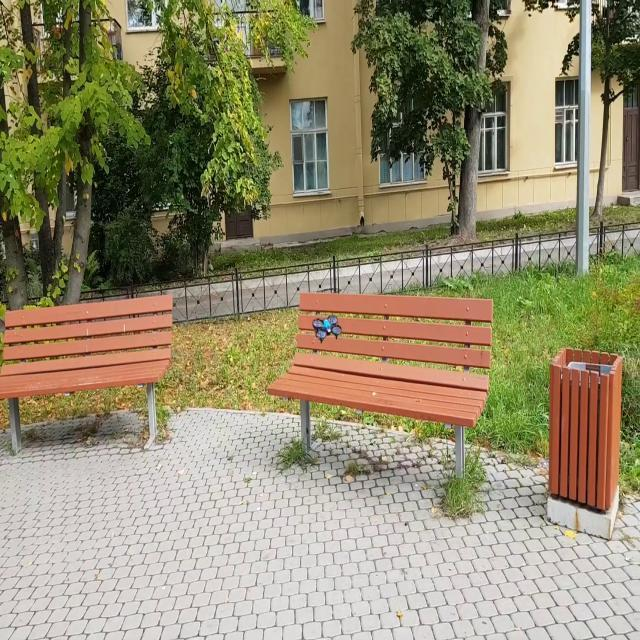Drons: (311, 312, 342, 348)
